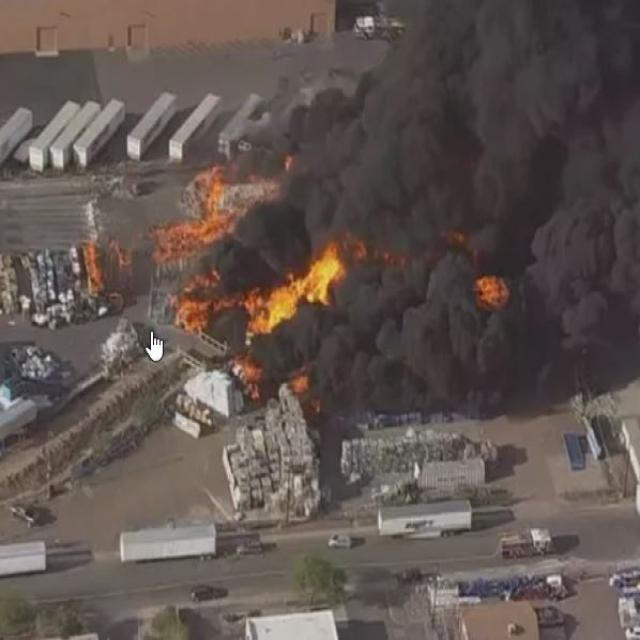Fire: (147, 184, 239, 274), (245, 255, 348, 334), (76, 242, 127, 300), (178, 287, 229, 339), (471, 268, 516, 312), (233, 353, 267, 393), (285, 374, 310, 398)
Smoke: (257, 12, 634, 445)
